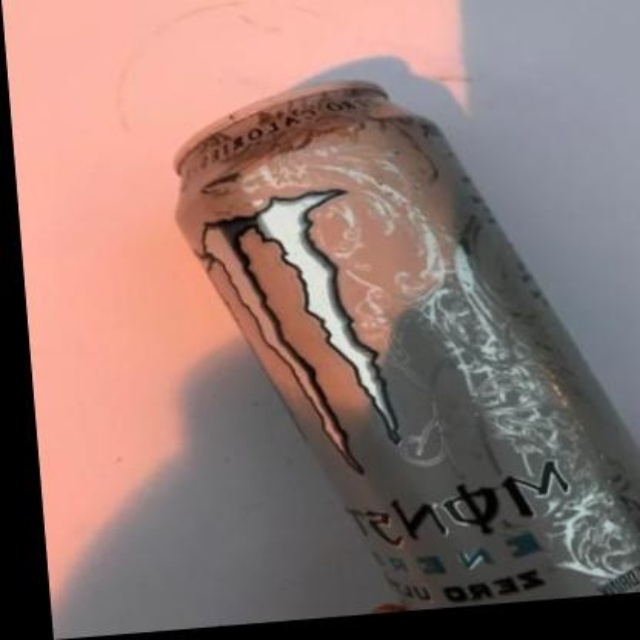trash: (175, 82, 638, 608)
